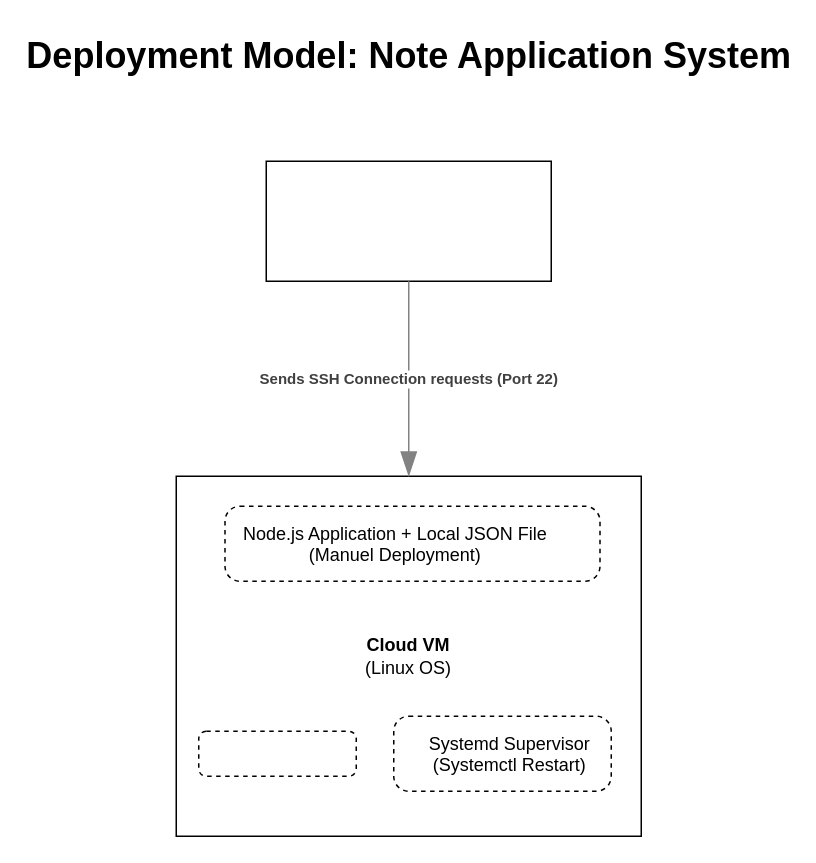
Some shapes in this 816 by 863 pixel diagram are drawn without their labels. The shapes that lost their labels are listed below. From the top down, each one's centre as x and y in pixels, then its label:
At point (408, 220): "Developer Machine (Local Laptop)".
At point (276, 753): "Open port: 3000".
